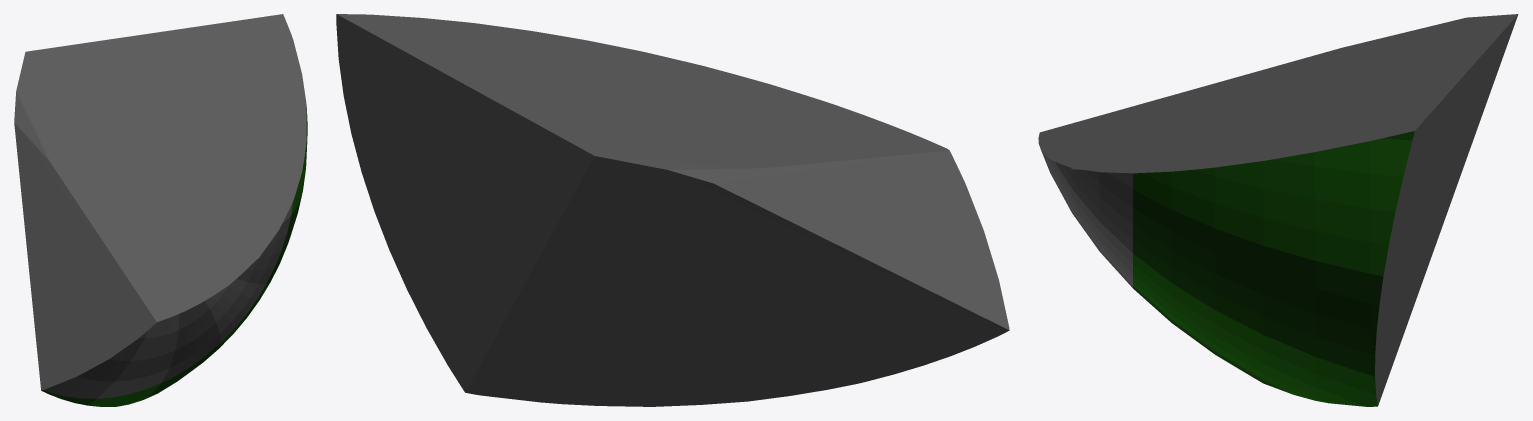
Rendered from Mortarmellon piece6.glb.
3 renders of one model, left to right at view 1: azimuth 30°, elevation 25°; view 2: azimuth 150°, elevation 25°; view 3: azimuth 270°, elevation 25°, orthographic. The views are drawn at different scales.
Parts seen in each view (by area): view 1: Mortarmelon Body_cell.005; view 2: Mortarmelon Body_cell.005; view 3: Mortarmelon Body_cell.005.
Part boxes in pixels (left/top/right/bottom): Mortarmelon Body_cell.005: left=14, top=14, right=307, bottom=406; Mortarmelon Body_cell.005: left=336, top=14, right=1009, bottom=406; Mortarmelon Body_cell.005: left=1038, top=14, right=1518, bottom=406.
Bounding box in the file's own units: 1.18 × 0.8713 × 1.08.
